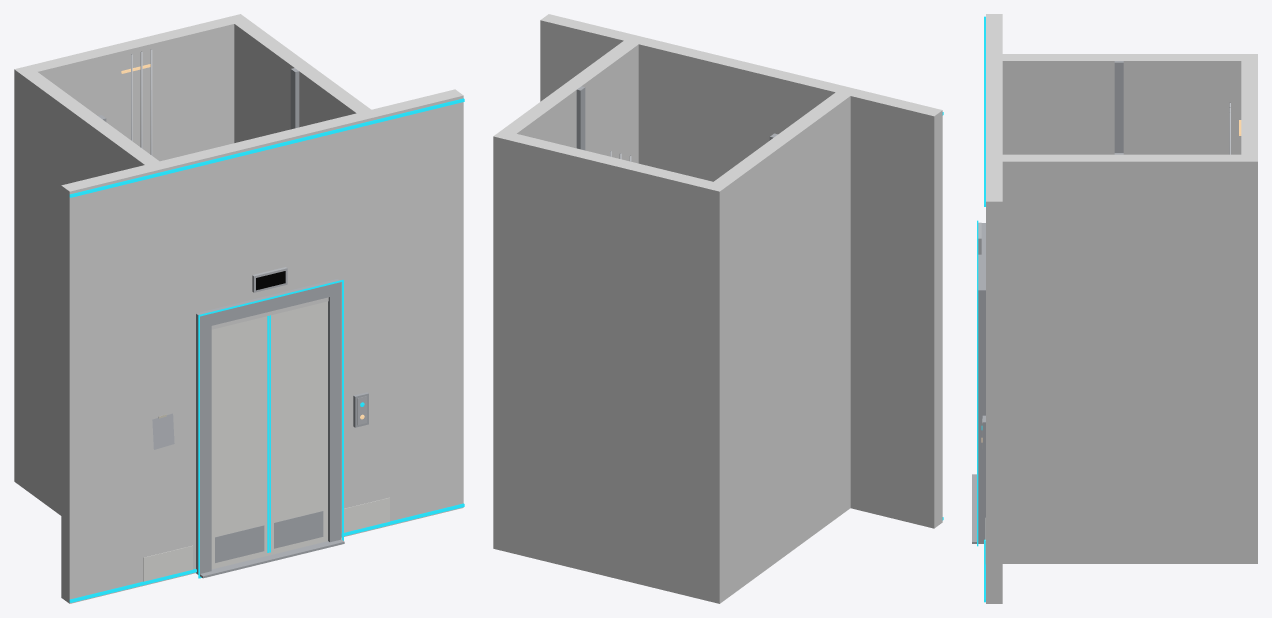
The model's file is Arch_Elevator_Floor.gltf.
3 views of the same model, side by side, from view 1: azimuth 30°, elevation 25°; view 2: azimuth 150°, elevation 25°; view 3: azimuth 270°, elevation 25° (orthographic). The views are drawn at different scales.
Parts seen in each view (by area): view 1: Arch_Elevator_Floor_COL, Arch_Elevator_Floor_COL1, Arch_Elevator_Floor_COL3, Arch_Elevator_Floor, Arch_Elevator_Floor_COL2, Arch_Elevator_Floor_COL5, Door_R, Door_L, Arch_Elevator_Floor_COL4; view 2: Arch_Elevator_Floor_COL5, Arch_Elevator_Floor_COL3, Arch_Elevator_Floor_COL, Arch_Elevator_Floor_COL2, Arch_Elevator_Floor_COL1, Arch_Elevator_Floor_COL4, Arch_Elevator_Floor; view 3: Arch_Elevator_Floor_COL4, Arch_Elevator_Floor_COL3, Arch_Elevator_Floor_COL1, Arch_Elevator_Floor, Arch_Elevator_Floor_COL5, Arch_Elevator_Floor_COL, Arch_Elevator_Floor_COL2.
Part boxes in pixels (<box>): Arch_Elevator_Floor_COL: <box>61,152,207,603</box>; Arch_Elevator_Floor_COL1: <box>318,89,463,537</box>; Arch_Elevator_Floor_COL3: <box>14,69,159,515</box>; Arch_Elevator_Floor: <box>69,49,464,602</box>; Arch_Elevator_Floor_COL2: <box>199,123,325,310</box>; Arch_Elevator_Floor_COL5: <box>14,14,240,161</box>; Door_R: <box>269,301,327,555</box>; Door_L: <box>211,316,268,569</box>; Arch_Elevator_Floor_COL4: <box>226,14,370,142</box>; Arch_Elevator_Floor_COL5: <box>493,134,728,603</box>; Arch_Elevator_Floor_COL3: <box>705,92,850,603</box>; Arch_Elevator_Floor_COL: <box>796,76,942,528</box>; Arch_Elevator_Floor_COL2: <box>678,47,804,181</box>; Arch_Elevator_Floor_COL1: <box>540,14,685,172</box>; Arch_Elevator_Floor_COL4: <box>493,40,638,188</box>; Arch_Elevator_Floor: <box>576,86,943,520</box>; Arch_Elevator_Floor_COL4: <box>1002,154,1257,563</box>; Arch_Elevator_Floor_COL3: <box>1002,54,1257,154</box>; Arch_Elevator_Floor_COL1: <box>986,136,1002,603</box>; Arch_Elevator_Floor: <box>972,16,1241,602</box>; Arch_Elevator_Floor_COL5: <box>1241,54,1257,308</box>; Arch_Elevator_Floor_COL: <box>986,14,1002,79</box>; Arch_Elevator_Floor_COL2: <box>986,79,1002,135</box>.
Size of the model in its own units: 4 by 4.02 by 2.58.
